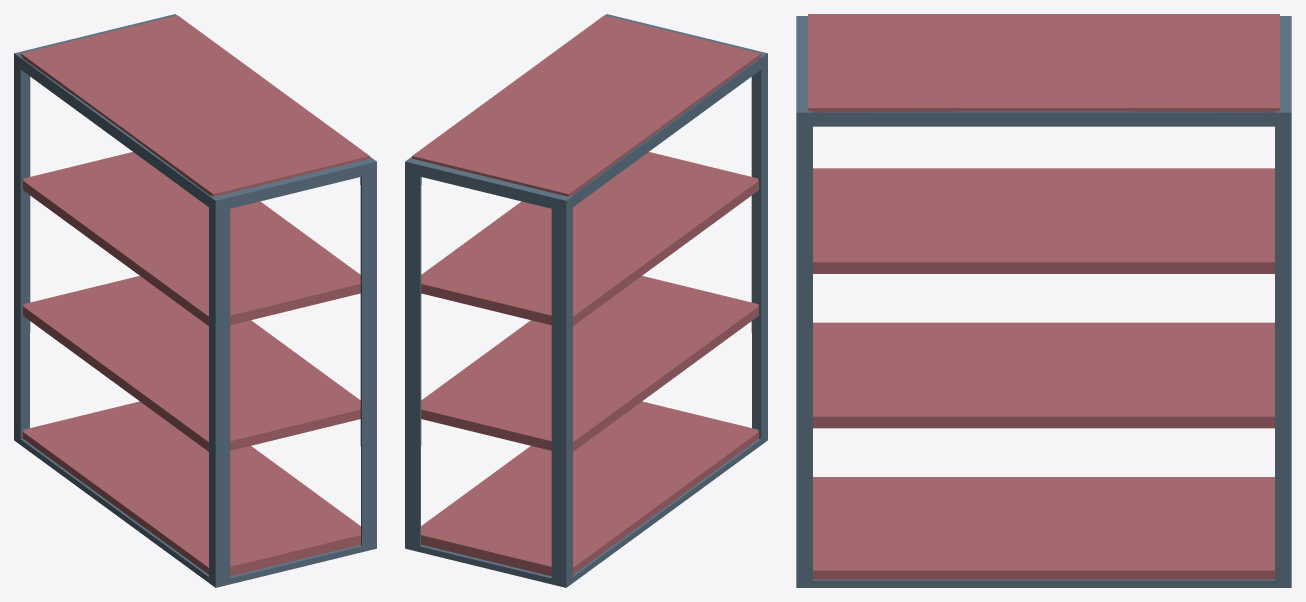
Rendered from shelf.glb.
The picture shows the model from 3 angles, left to right: view 1: azimuth 30°, elevation 25°; view 2: azimuth 150°, elevation 25°; view 3: azimuth 270°, elevation 25°; orthographic projection. The views are drawn at different scales.
Visible parts, largest first — view 1: shelf steps, shelf; view 2: shelf steps, shelf; view 3: shelf steps, shelf.
Boxes of the visible parts, <box> form: shelf steps: <box>21,15,369,576</box>; shelf: <box>14,14,376,587</box>; shelf steps: <box>412,15,760,576</box>; shelf: <box>405,14,767,587</box>; shelf steps: <box>808,14,1279,579</box>; shelf: <box>796,16,1291,587</box>.
Bounding box in the file's own units: 1.2 × 2.77 × 2.6.
2 materials, 2 textured.
